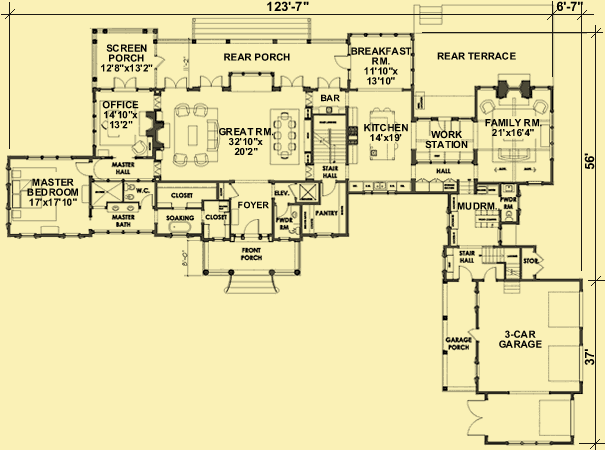bed: (10, 165, 58, 220)
dining table: (267, 106, 299, 167)
door: (466, 398, 489, 442), (198, 73, 224, 92), (314, 74, 342, 91), (109, 73, 138, 89), (277, 74, 306, 90), (242, 217, 261, 241), (531, 247, 546, 277), (161, 74, 188, 90), (331, 52, 354, 68), (319, 179, 337, 198), (72, 160, 92, 177), (481, 265, 498, 283), (464, 324, 482, 341), (273, 200, 288, 220), (431, 116, 452, 130), (140, 191, 155, 210), (456, 264, 472, 281), (151, 51, 166, 69), (228, 183, 241, 200)
kitchen bar: (368, 105, 399, 166)
large sink: (502, 205, 516, 222), (122, 181, 135, 193)
large sofa: (205, 118, 224, 158), (494, 145, 533, 162)
small sofa: (191, 150, 211, 171), (529, 96, 549, 117), (126, 138, 150, 155), (172, 100, 191, 120), (192, 99, 211, 119), (169, 150, 189, 169), (479, 99, 498, 117)
stairs: (187, 15, 315, 40), (310, 115, 349, 173), (482, 246, 525, 297), (222, 268, 282, 298), (417, 5, 447, 29)
tub: (162, 214, 191, 232)
windows: (440, 279, 453, 394), (93, 23, 157, 37), (348, 29, 409, 40), (502, 436, 555, 447), (88, 37, 98, 85), (229, 69, 276, 79), (24, 153, 71, 162), (89, 99, 97, 149), (505, 389, 553, 397), (60, 230, 84, 244), (312, 229, 336, 242), (17, 229, 38, 240)
